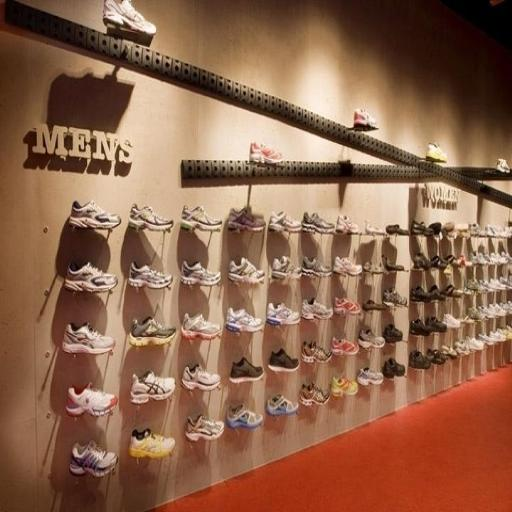shoe: (103, 0, 156, 36), (69, 440, 118, 477), (65, 383, 118, 417), (62, 323, 115, 355), (67, 200, 121, 230), (64, 262, 118, 292), (130, 371, 175, 404), (130, 316, 176, 346), (129, 428, 175, 458), (128, 204, 174, 231), (128, 262, 173, 289), (180, 364, 220, 391), (180, 260, 221, 286), (180, 206, 222, 231), (181, 314, 221, 340), (186, 414, 224, 441), (228, 257, 265, 284), (226, 307, 263, 333), (228, 207, 266, 232), (226, 404, 263, 429), (230, 357, 263, 383), (301, 212, 335, 234), (266, 303, 300, 325), (268, 348, 299, 372), (250, 142, 283, 164), (266, 394, 299, 416), (268, 211, 301, 233), (299, 383, 330, 406), (301, 298, 333, 320), (302, 340, 332, 363), (271, 256, 301, 279), (302, 256, 332, 277), (332, 256, 362, 276), (330, 376, 358, 397), (358, 328, 384, 349), (356, 367, 384, 386), (354, 108, 378, 130), (382, 357, 405, 379), (331, 337, 359, 355), (336, 214, 359, 235), (382, 288, 407, 307), (333, 298, 362, 314), (408, 350, 431, 370), (426, 142, 447, 163), (409, 318, 432, 336), (382, 324, 402, 344), (410, 220, 434, 236), (410, 285, 432, 302), (382, 255, 404, 272), (426, 316, 448, 333), (364, 220, 386, 236), (427, 348, 446, 365), (442, 312, 461, 328), (465, 336, 485, 351), (362, 261, 385, 274), (413, 253, 430, 270), (428, 285, 446, 301), (386, 224, 410, 236), (466, 278, 484, 294), (362, 300, 388, 311), (467, 307, 486, 322), (441, 284, 461, 298), (441, 344, 458, 360), (454, 339, 471, 355), (430, 255, 448, 270), (478, 332, 496, 346), (496, 158, 510, 173), (428, 222, 442, 236), (442, 221, 455, 236), (468, 223, 481, 237)
